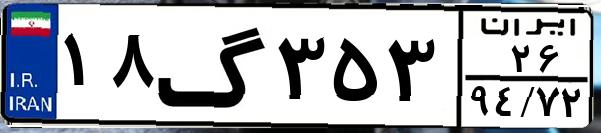1: (57, 26, 110, 100)
2: (560, 70, 590, 125), (508, 27, 537, 80)
3: (270, 28, 330, 110), (385, 28, 445, 110)
4: (495, 70, 520, 125)
5: (330, 28, 385, 110)
6: (537, 27, 568, 80)
7: (535, 70, 560, 125)
8: (110, 28, 156, 98)
9: (470, 70, 495, 125)
گ: (156, 12, 270, 120)
